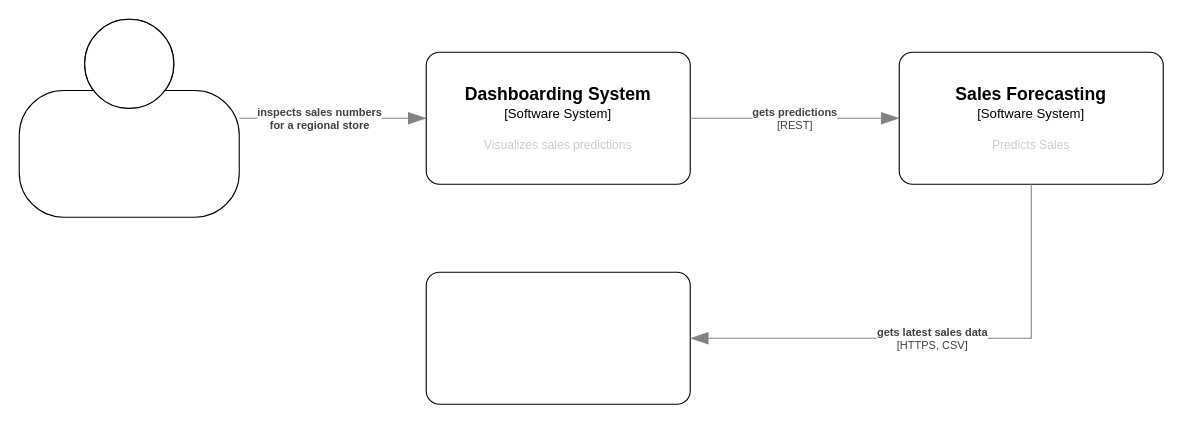
Image size: 1183x424. Some labels were removed from this diagram. Here are the shapes that lost their labels. From the top down, the centre of each, then its label:
At point 128,117: "Logistic Planner [Person]".
At point 557,337: "Store Backend Services [Software System] Provides latest sales data".
